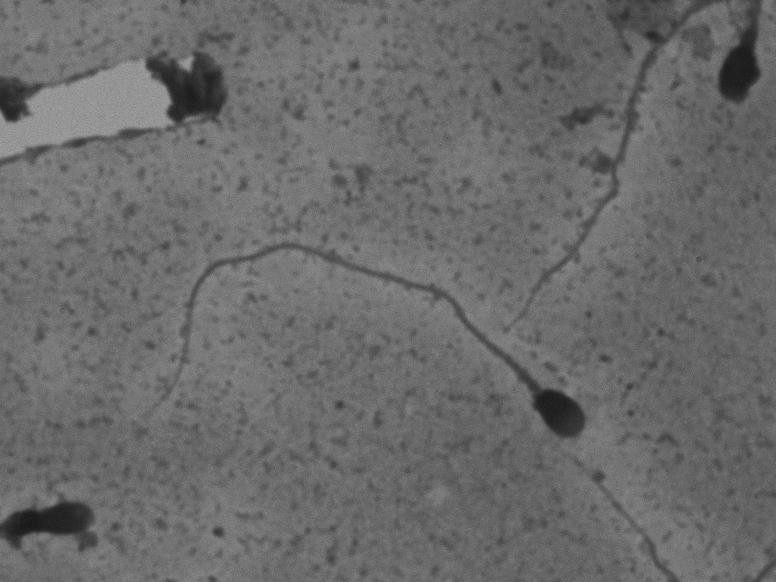Normal: (139, 228, 599, 468)
